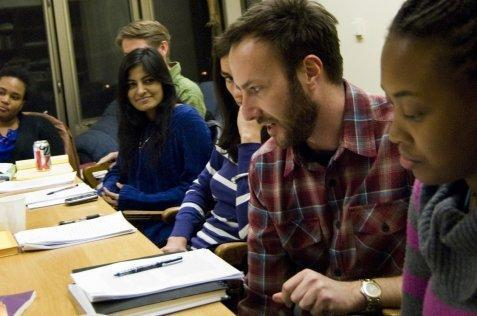no-helmet: (204, 5, 349, 95), (113, 47, 174, 85), (1, 65, 33, 97)
no-vest: (247, 135, 421, 271), (121, 107, 204, 204)
person: (215, 5, 408, 286), (111, 41, 205, 214)
